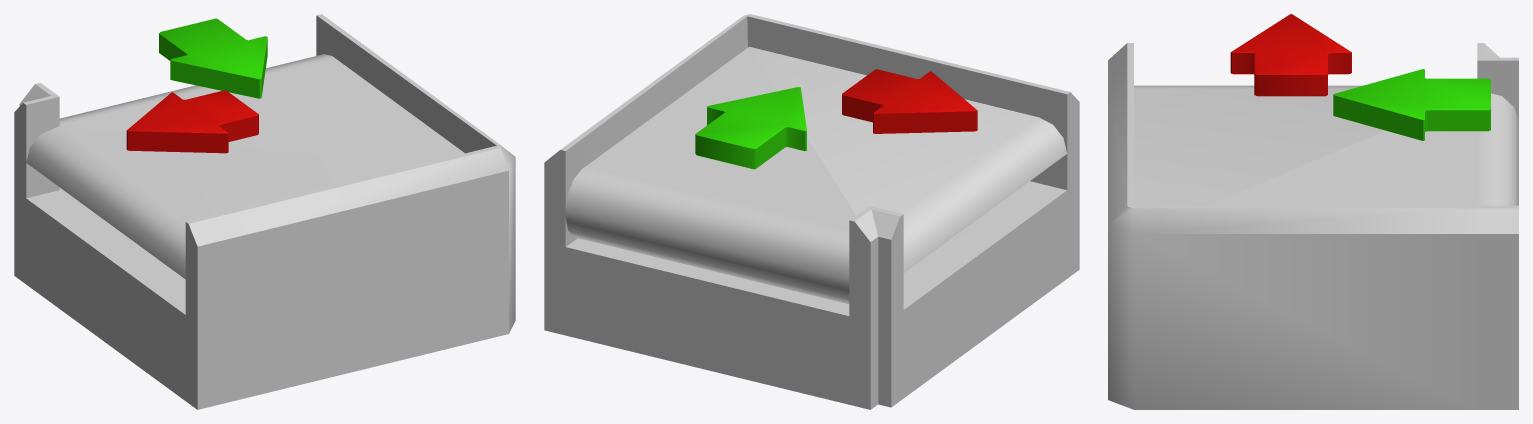
The model's file is ConveyorBeltTurnBuildingRender.fbx.
The picture shows the model from 3 angles, left to right: view 1: azimuth 30°, elevation 25°; view 2: azimuth 150°, elevation 25°; view 3: azimuth 270°, elevation 25°; orthographic projection. The views are drawn at different scales.
Visible parts, largest first — view 1: ConveyorBeltTurnBuildingRender; view 2: ConveyorBeltTurnBuildingRender; view 3: ConveyorBeltTurnBuildingRender.
Part boxes in pixels (x1=…): ConveyorBeltTurnBuildingRender: x1=14, y1=14, x2=515, y2=409; ConveyorBeltTurnBuildingRender: x1=544, y1=14, x2=1079, y2=409; ConveyorBeltTurnBuildingRender: x1=1108, y1=14, x2=1518, y2=409.
Bounding box in the file's own units: 193 × 120 × 193.
